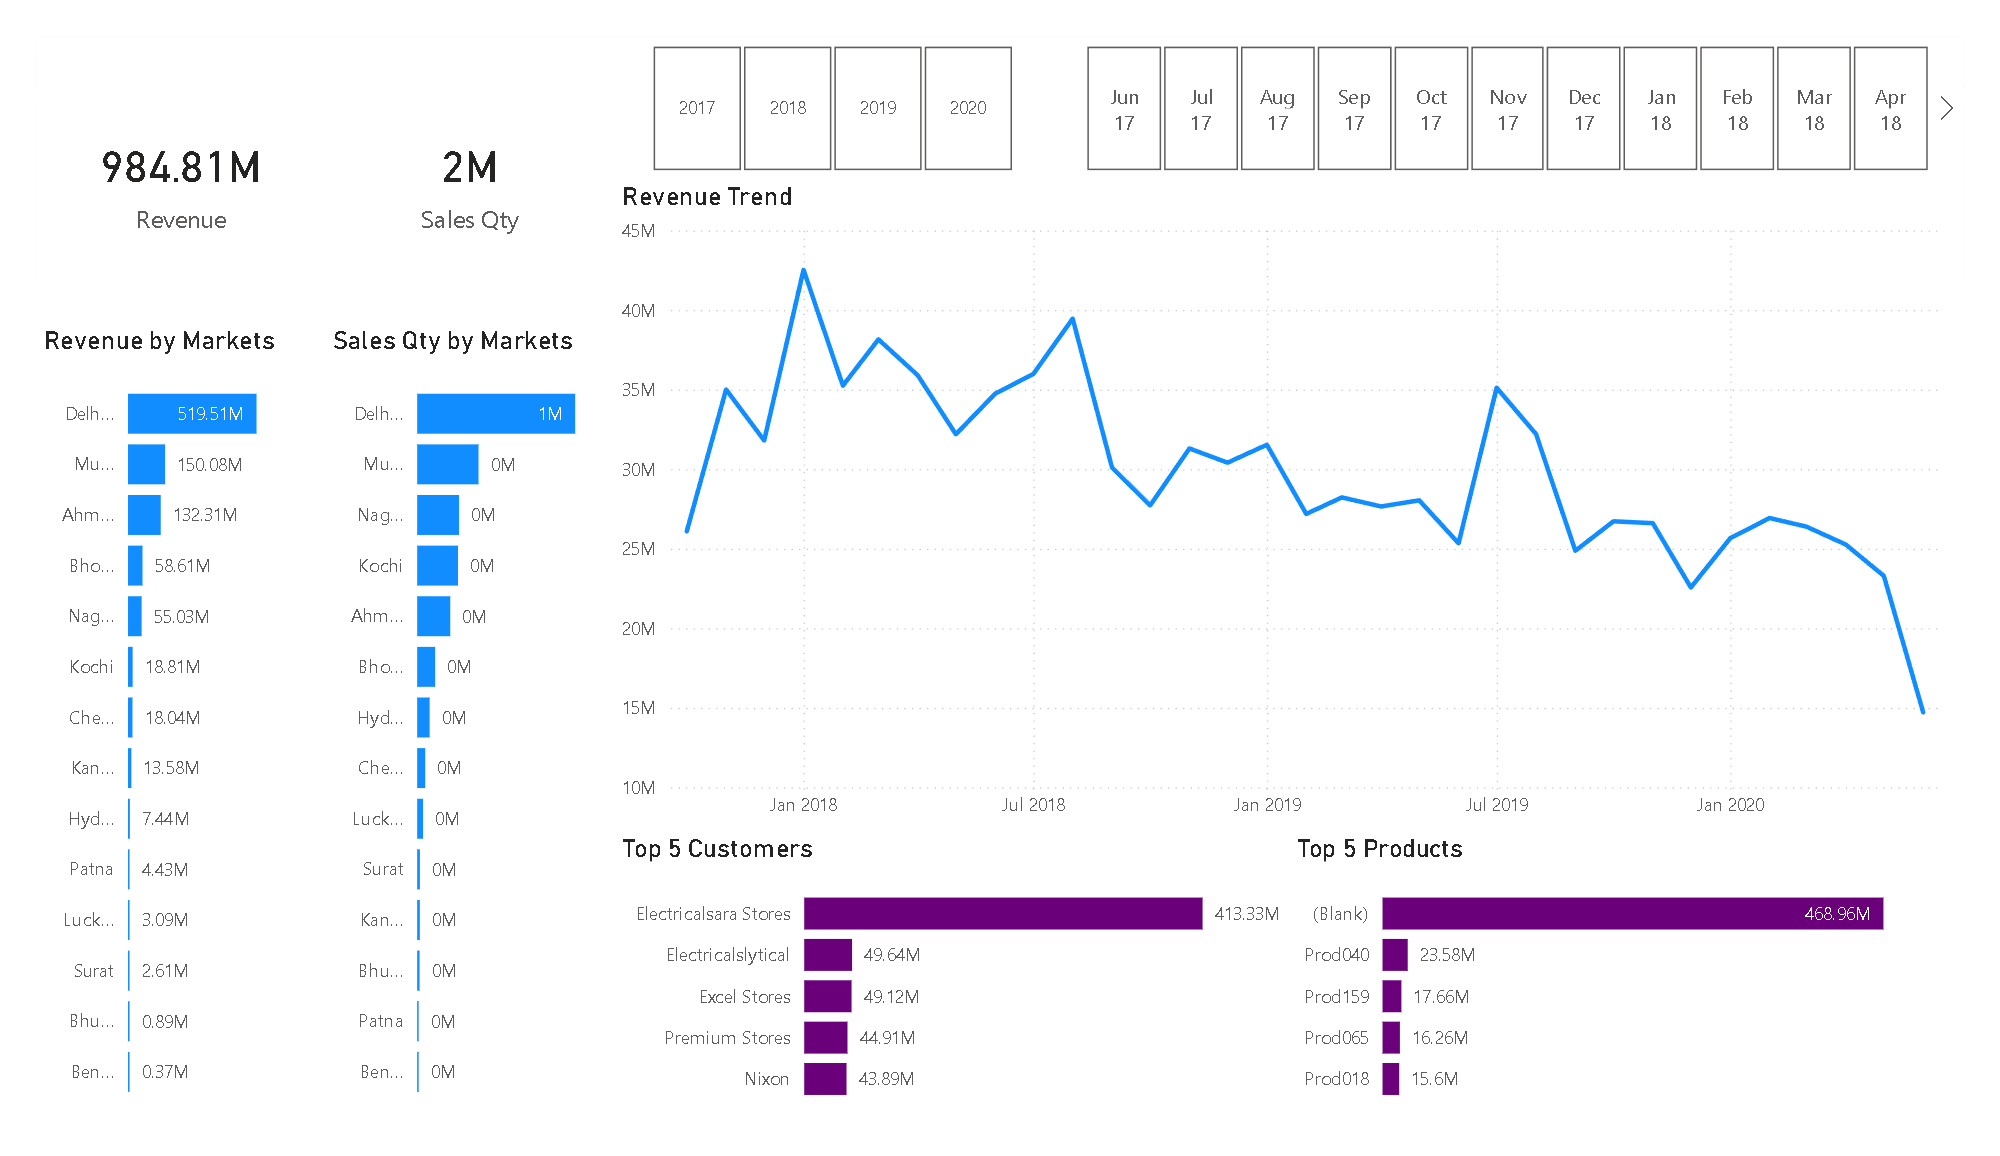

The dashboard page shown, as its layout file describes it:
{"tool":"powerbi","page":{"name":"Page 1","canvas":[1280,720],"ordinal":0},"visuals":[{"type":"card","fields":{"Values":["BaseMeasures.Revenue"]},"box":[0,0,192,192],"z":0},{"type":"card","fields":{"Values":["BaseMeasures.Sales Qty"]},"box":[192,0,192,192],"z":1000},{"type":"barChart","title":"Revenue by Markets","fields":{"Y":["BaseMeasures.Revenue"],"Category":["sales markets.markets_name"]},"box":[0,192,192,528],"z":2000},{"type":"barChart","title":"Sales Qty by Markets","fields":{"Y":["BaseMeasures.Sales Qty"],"Category":["sales markets.markets_name"]},"box":[192,192,192,528],"z":3000},{"type":"slicer","fields":{"Values":["sales date.year"]},"box":[384,0,288,96],"z":4000},{"type":"slicer","fields":{"Values":["sales date.cy_date"]},"box":[672,0,608,96],"z":4001},{"type":"barChart","title":"Top 5 Customers","fields":{"Y":["BaseMeasures.Revenue"],"Category":["sales customers.custmer_name"]},"box":[384,529.2,448,190.8],"z":4002},{"type":"barChart","title":"Top 5 Products","fields":{"Y":["BaseMeasures.Revenue"],"Category":["sales products.product_code"]},"box":[832,529.2,448,190.8],"z":4003},{"type":"lineChart","title":"Revenue Trend","fields":{"Y":["BaseMeasures.Revenue"],"Category":["sales date.cy_date"]},"box":[384,96,896,433.2],"z":4004}]}

Visuals, with their boxes on the page's 1280x720 design canvas (x1, y1, x2, y2). These are canvas units, not pixel positions in the 2000x1156 screenshot, which may show the page scaled, cropped or inside an application window:
card - BaseMeasures.Revenue: 0, 0, 192, 192
card - BaseMeasures.Sales Qty: 192, 0, 384, 192
"Revenue by Markets" barChart: 0, 192, 192, 720
"Sales Qty by Markets" barChart: 192, 192, 384, 720
slicer - sales date.year: 384, 0, 672, 96
slicer - sales date.cy_date: 672, 0, 1280, 96
"Top 5 Customers" barChart: 384, 529, 832, 720
"Top 5 Products" barChart: 832, 529, 1280, 720
"Revenue Trend" lineChart: 384, 96, 1280, 529
